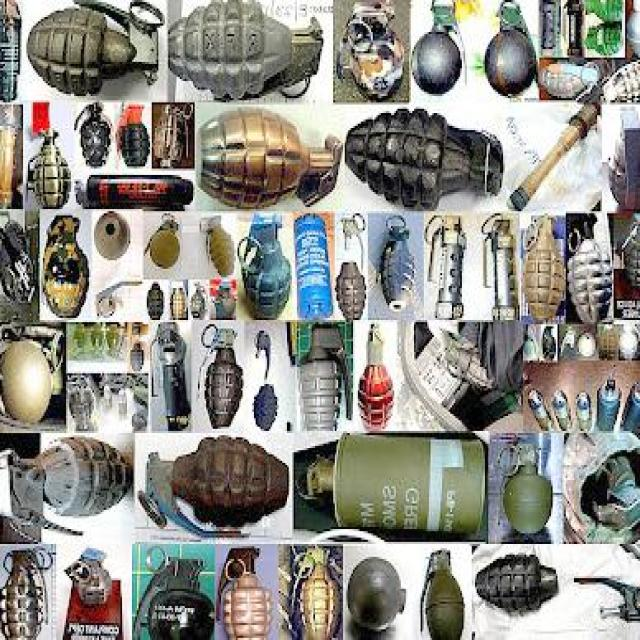grenade: (296, 436, 486, 543), (344, 108, 504, 210), (140, 436, 290, 541), (173, 1, 323, 106), (194, 108, 342, 214), (3, 436, 133, 545), (27, 3, 166, 101), (564, 432, 640, 549), (133, 541, 217, 639), (339, 1, 406, 101), (3, 323, 64, 426), (298, 323, 354, 432), (216, 547, 277, 639), (240, 214, 295, 315), (197, 323, 247, 432), (486, 1, 540, 99), (414, 3, 470, 97), (501, 441, 555, 537), (290, 547, 344, 639), (475, 554, 559, 613), (43, 212, 89, 319), (522, 214, 567, 321), (3, 547, 54, 639), (569, 227, 615, 328), (151, 321, 192, 434), (347, 558, 409, 632), (425, 215, 468, 320), (376, 214, 417, 321), (75, 174, 194, 210), (420, 547, 466, 639), (359, 321, 397, 432), (481, 212, 520, 320), (295, 216, 333, 317), (29, 125, 74, 210), (607, 104, 640, 213), (336, 214, 369, 321), (3, 217, 37, 311), (72, 547, 115, 613), (153, 103, 193, 168), (448, 342, 496, 396), (75, 104, 115, 168), (540, 61, 603, 101), (146, 212, 183, 274), (2, 1, 24, 101), (201, 219, 239, 274), (95, 210, 135, 261), (116, 118, 153, 172), (602, 59, 640, 106), (71, 374, 99, 432), (620, 212, 640, 291), (587, 20, 625, 59), (562, 1, 586, 59), (253, 385, 280, 436), (598, 379, 622, 431), (570, 105, 599, 143), (214, 278, 240, 319), (588, 1, 626, 29), (529, 389, 554, 430), (623, 1, 639, 65), (622, 379, 640, 434), (542, 1, 562, 50), (552, 392, 573, 433), (146, 280, 166, 321), (191, 276, 209, 321), (130, 326, 146, 375), (620, 325, 640, 364), (171, 285, 189, 325), (577, 392, 593, 432), (601, 328, 619, 361), (560, 328, 577, 362), (3, 106, 24, 133), (526, 325, 540, 359), (578, 332, 596, 358), (542, 328, 556, 360), (120, 389, 127, 423), (105, 385, 113, 413)
